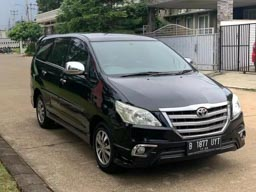plat: (189, 137, 218, 149)
